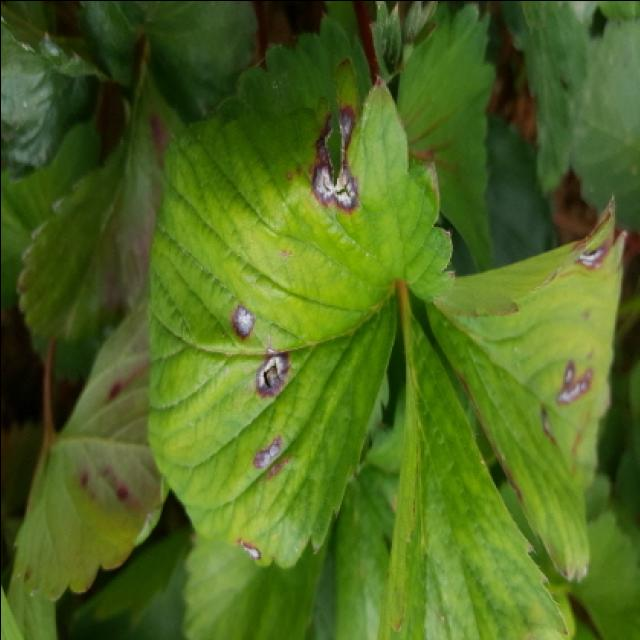Leaf Spot: (145, 56, 456, 569), (422, 194, 626, 583), (9, 289, 172, 602)
